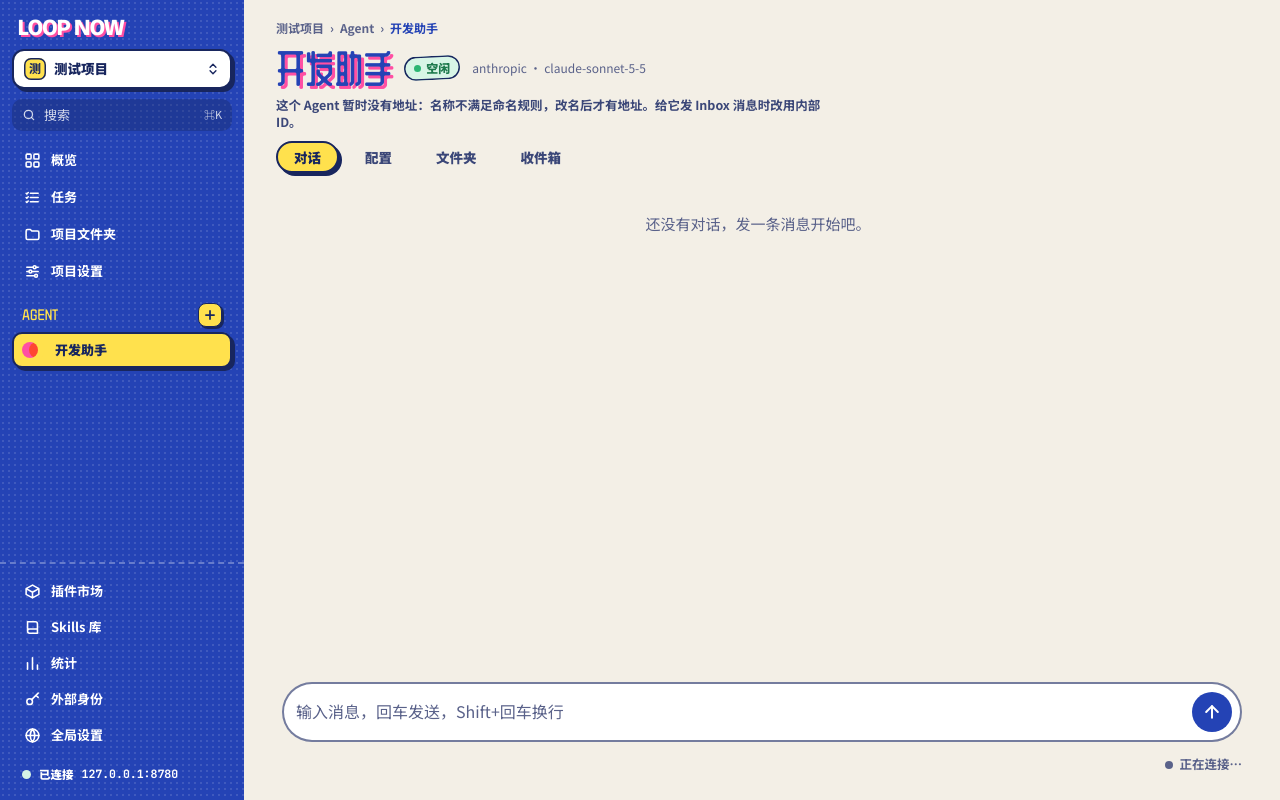
Test: 发送消息 › 发送失败时输入框保持原样
This screenshot has width=1280, height=800.
Expected: the element showing "还没有对话，发一条消息开始吧。" is shown, [646,215,870,233]
Type "第一条" into the text box labelled "消息" at (738, 712), box [292,692,1184,732]
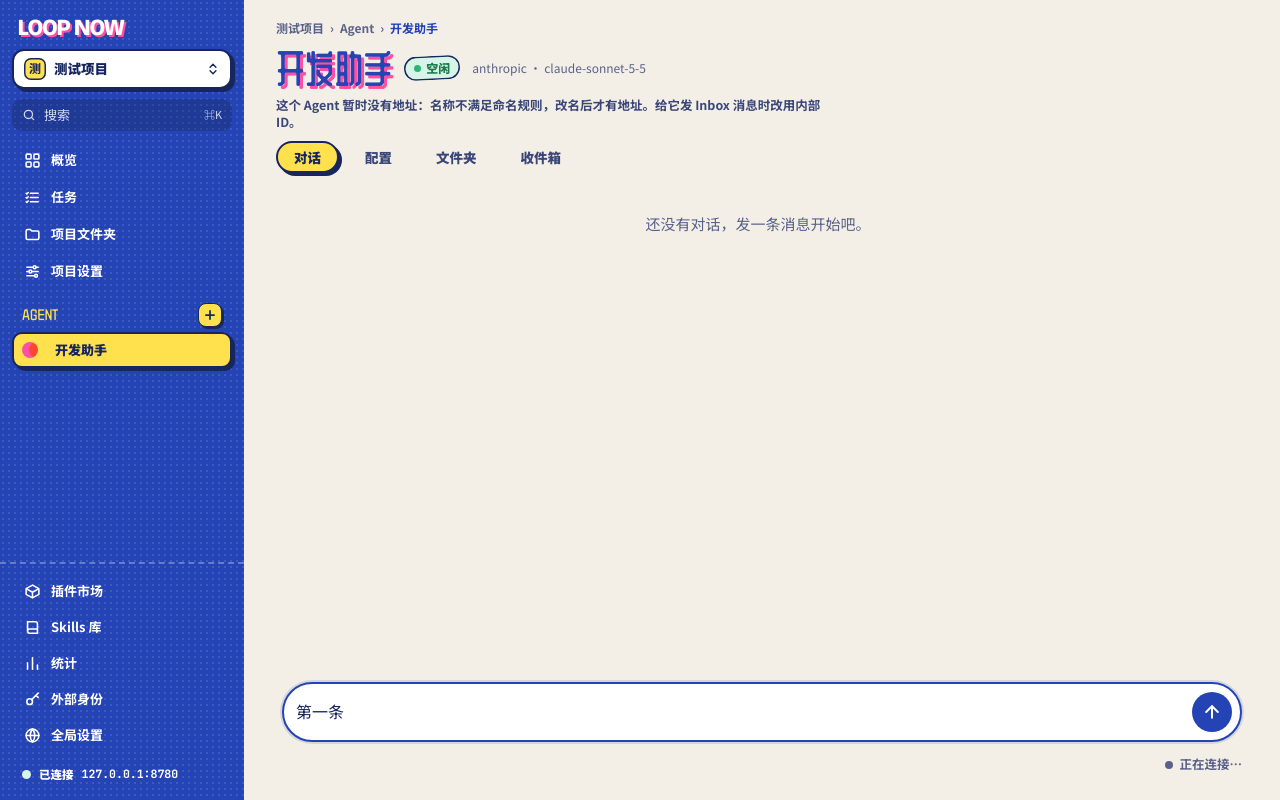
Click the button named "发送" at (1212, 712), box [1192,692,1232,732]
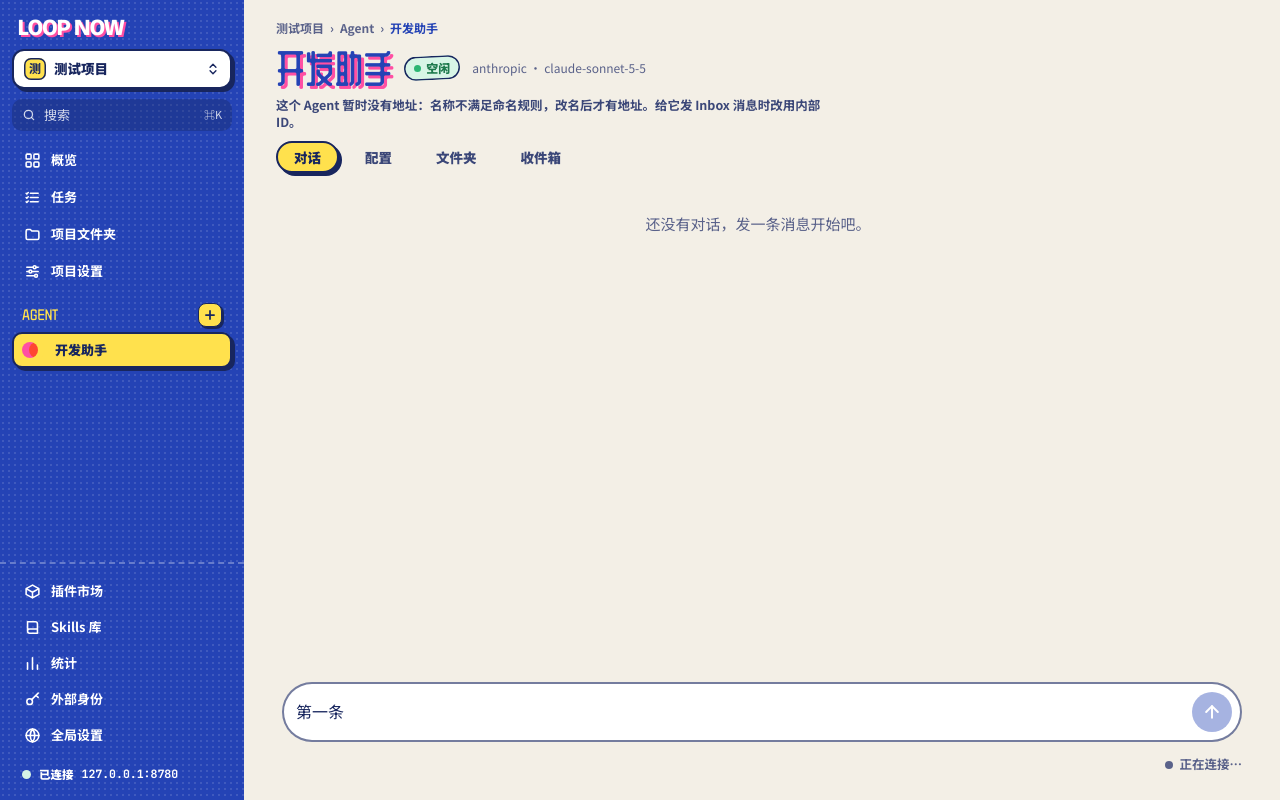
Type "，接着写" into the text box named "消息" at (738, 712), box [292,692,1184,732]
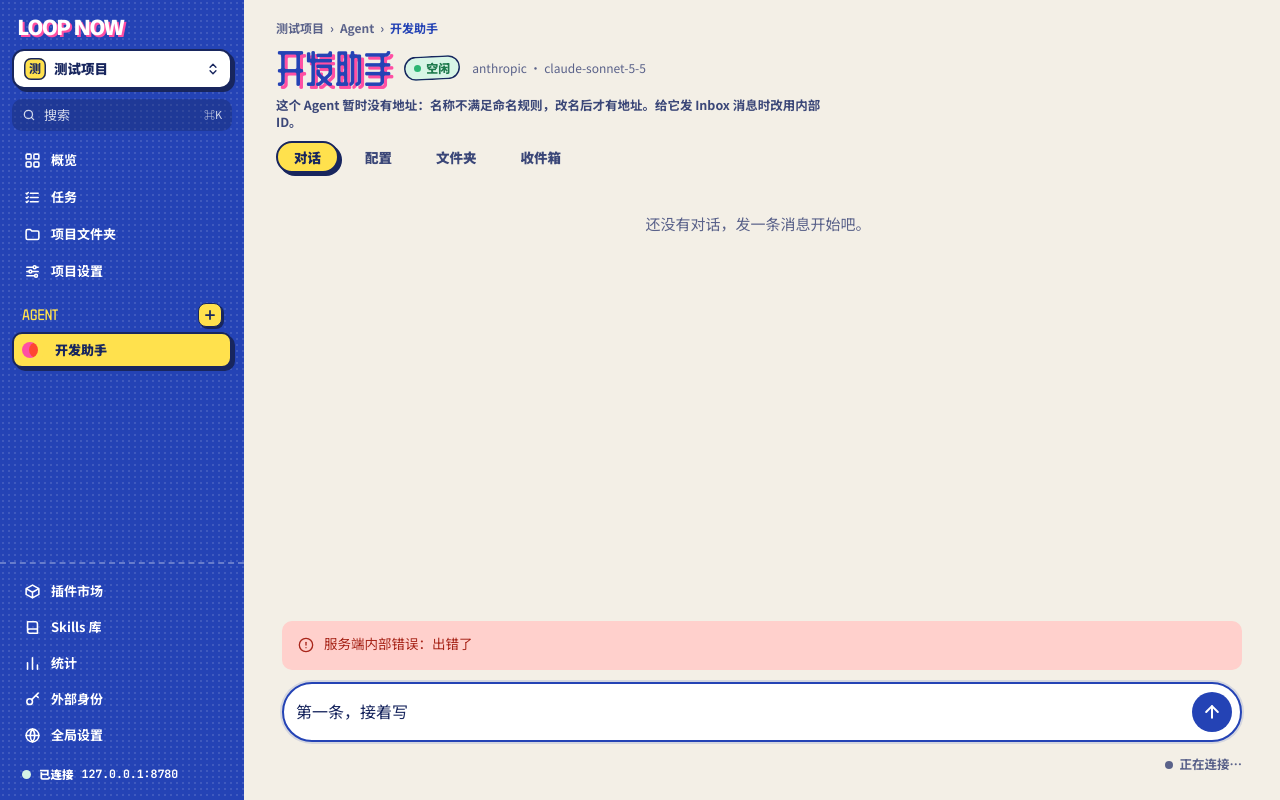
Now the text "服务端内部错误：出错了" is shown, box [324,635,472,652]
Now the text box named "消息" holds "第一条，接着写", box [292,692,1184,732]
